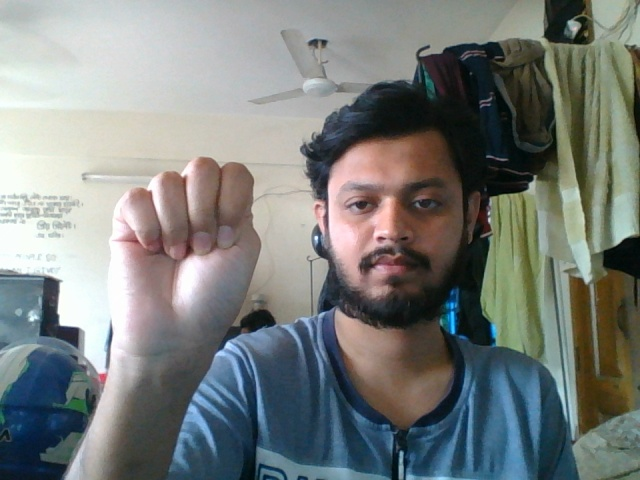to: (94, 152, 272, 364)
